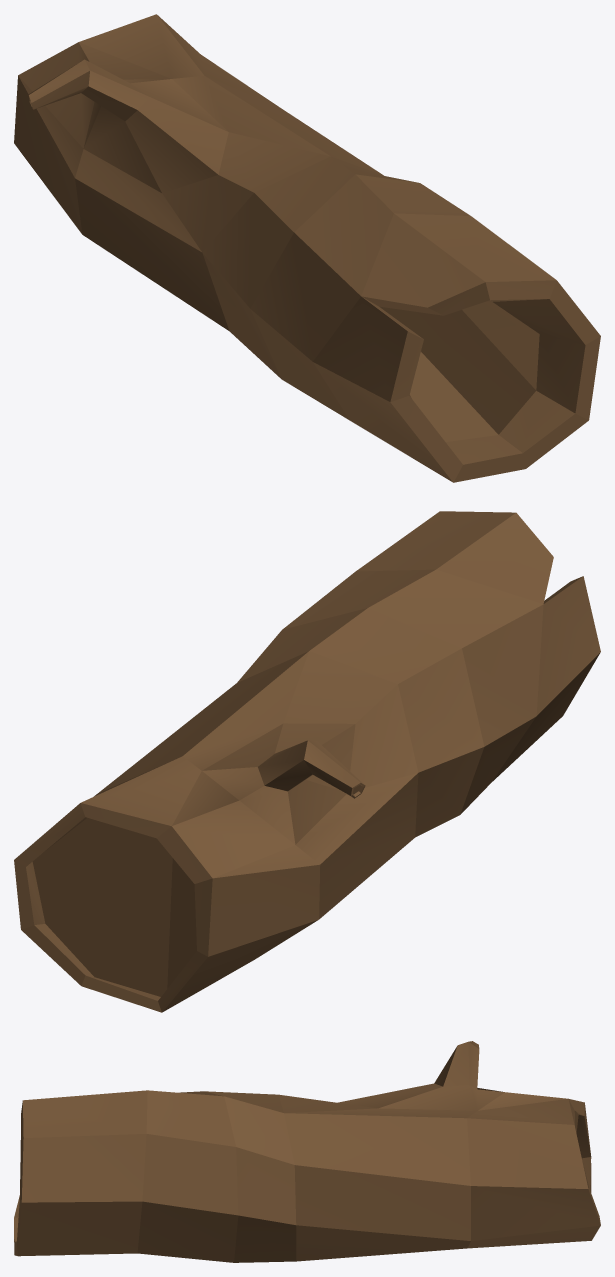
File: wild_pz_log_01.glb
3 views of the same model, one above another, from view 1: azimuth 30°, elevation 25°; view 2: azimuth 150°, elevation 25°; view 3: azimuth 270°, elevation 25° (orthographic). The views are drawn at different scales.
Parts seen in each view (by area): view 1: pg_log_01; view 2: pg_log_01; view 3: pg_log_01.
Part boxes in pixels (bbox=[...]): pg_log_01: bbox=[14, 14, 600, 482]; pg_log_01: bbox=[14, 511, 600, 1012]; pg_log_01: bbox=[14, 1041, 600, 1262].
Size of the model in its own units: 1.04 by 0.8401 by 2.63.
